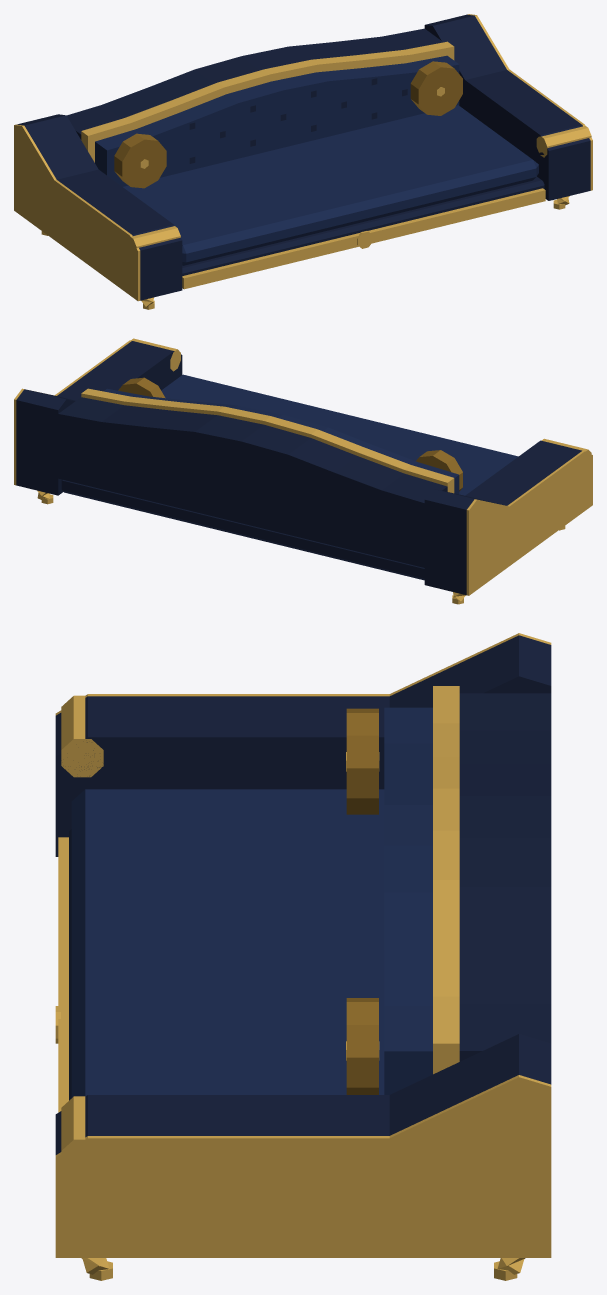
3 views of the same model, one above another, from view 1: azimuth 30°, elevation 25°; view 2: azimuth 150°, elevation 25°; view 3: azimuth 270°, elevation 25° (orthographic). The views are drawn at different scales.
Visible parts, largest first — view 1: furniture_20_sofa_unique_royal; view 2: furniture_20_sofa_unique_royal; view 3: furniture_20_sofa_unique_royal.
Part boxes in pixels (x1,y1,x2,y2): furniture_20_sofa_unique_royal: (14,14,592,309); furniture_20_sofa_unique_royal: (14,338,592,604); furniture_20_sofa_unique_royal: (55,633,551,1280).
Bounding box in the file's own units: 3.9 × 1 × 1.84.
